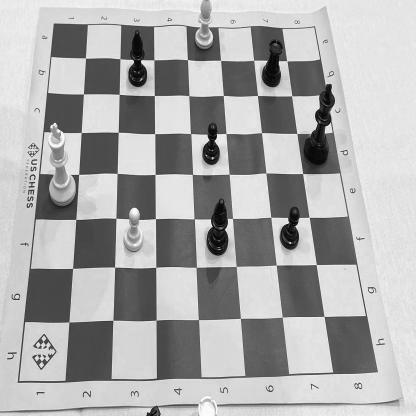black-bishop: (202, 193, 234, 259), (126, 26, 152, 92)
black-king: (302, 77, 336, 172)
black-pawn: (276, 202, 302, 255), (199, 118, 226, 168)
black-rook: (259, 35, 287, 90)
white-bishop: (194, 0, 221, 54)
white-king: (44, 112, 82, 212)
white-pawn: (122, 201, 150, 254)
